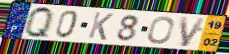0: (55, 9, 80, 39)
8: (115, 14, 141, 43)
K: (87, 11, 116, 42)
O: (146, 15, 176, 45)
Q: (24, 5, 55, 40)
V: (178, 16, 208, 49)
